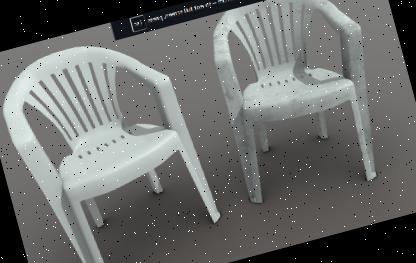chair: (0, 17, 233, 263), (187, 0, 401, 216)
